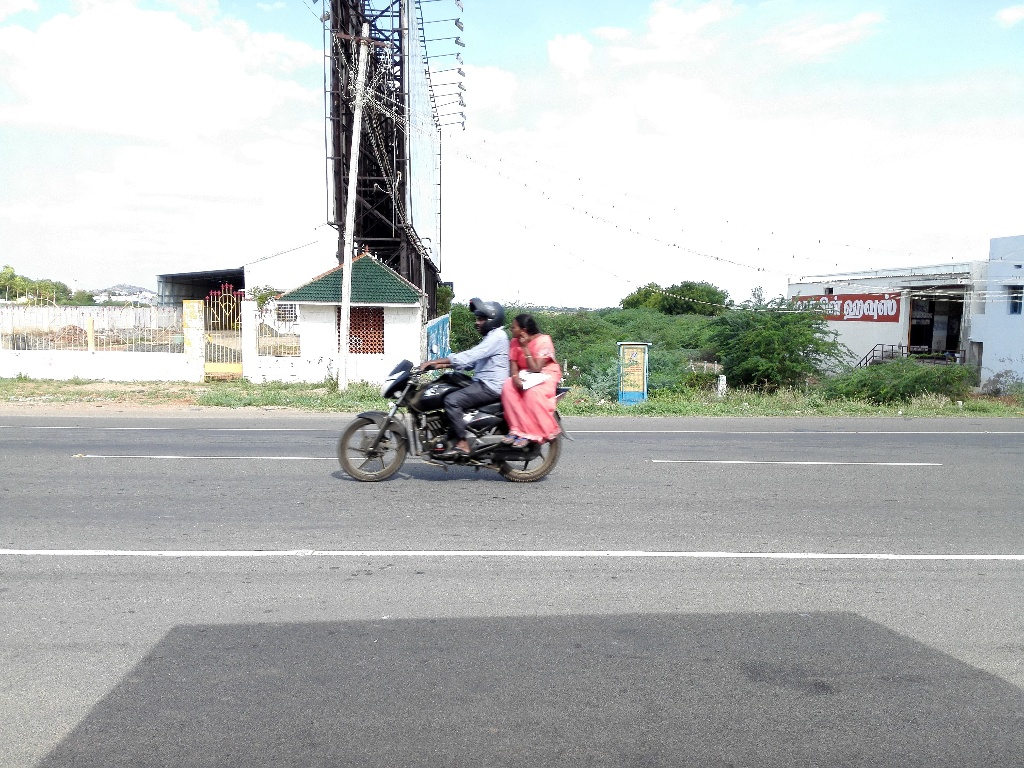biker: (324, 265, 589, 496)
helmet: (466, 283, 511, 343)
nohelmet: (508, 303, 548, 350)
